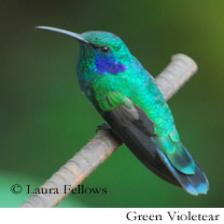Beak: (35, 26, 89, 44)
BirdBody: (38, 28, 209, 195)
Foot: (95, 123, 112, 133)
GreenBGD: (1, 0, 223, 207)
Head: (36, 27, 148, 78)
Tail: (154, 130, 209, 195)
Wing: (87, 75, 181, 186)
WoodBGD: (21, 130, 121, 207), (155, 54, 197, 101)
